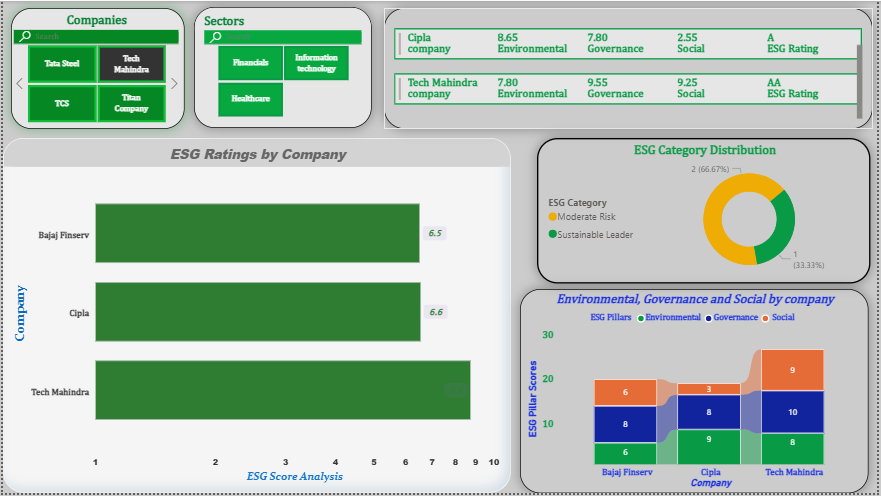

Layout of this report page (visuals, bound fields, positions):
{"tool":"powerbi","page":{"name":"Company Comparison   ","canvas":[1280,720],"ordinal":2},"visuals":[{"type":"slicer","title":"Companies","fields":{"Values":["Carbon performance.company"]},"box":[12,10.1,254.2,176.8],"z":0},{"type":"clusteredBarChart","title":"ESG Ratings  by Company","fields":{"Category":["ESG Ratings.company"],"Y":["ESG Ratings.ESG Rating KPI"]},"box":[0,200.7,743.1,519.4],"z":2000},{"type":"columnChart","fields":{"Category":["ESG Ratings.company"],"Y":["ESG Ratings.Avg Environmental","ESG Ratings.Avg Governance","ESG Ratings.Avg Social"]},"box":[757.3,421.6,510.5,298.9],"z":3000},{"type":"multiRowCard","fields":{"Values":["ESG Ratings.company","ESG Ratings.Avg Environmental","ESG Ratings.Avg Governance","ESG Ratings.Avg Social","ESG Ratings.ESG Rating"]},"box":[558,10.1,714.6,176.8],"z":4000},{"type":"donutChart","title":"ESG Category Distribution","fields":{"Category":["ESG Ratings.ESG Category"],"Y":["CountNonNull(ESG Ratings.company)"]},"box":[780.9,200.7,488.1,212.7],"z":5000},{"type":"slicer","title":"Sectors","fields":{"Values":["ESG Ratings.sector"]},"box":[279.5,8.8,260.5,177.1],"z":6000}]}

Visuals, with their boxes in screenshot pixels (x1, y1, x2, y2), scaled from the page's 1280x720 canvas onto the 881x496 screenshot:
"Companies" slicer: region(8, 7, 183, 129)
"ESG Ratings  by Company" clusteredBarChart: region(0, 138, 511, 495)
columnChart - ESG Ratings.company x ESG Ratings.Avg Environmental: region(521, 290, 873, 495)
multiRowCard - ESG Ratings.company x ESG Ratings.Avg Environmental: region(384, 7, 876, 129)
"ESG Category Distribution" donutChart: region(537, 138, 873, 285)
"Sectors" slicer: region(192, 6, 372, 128)
